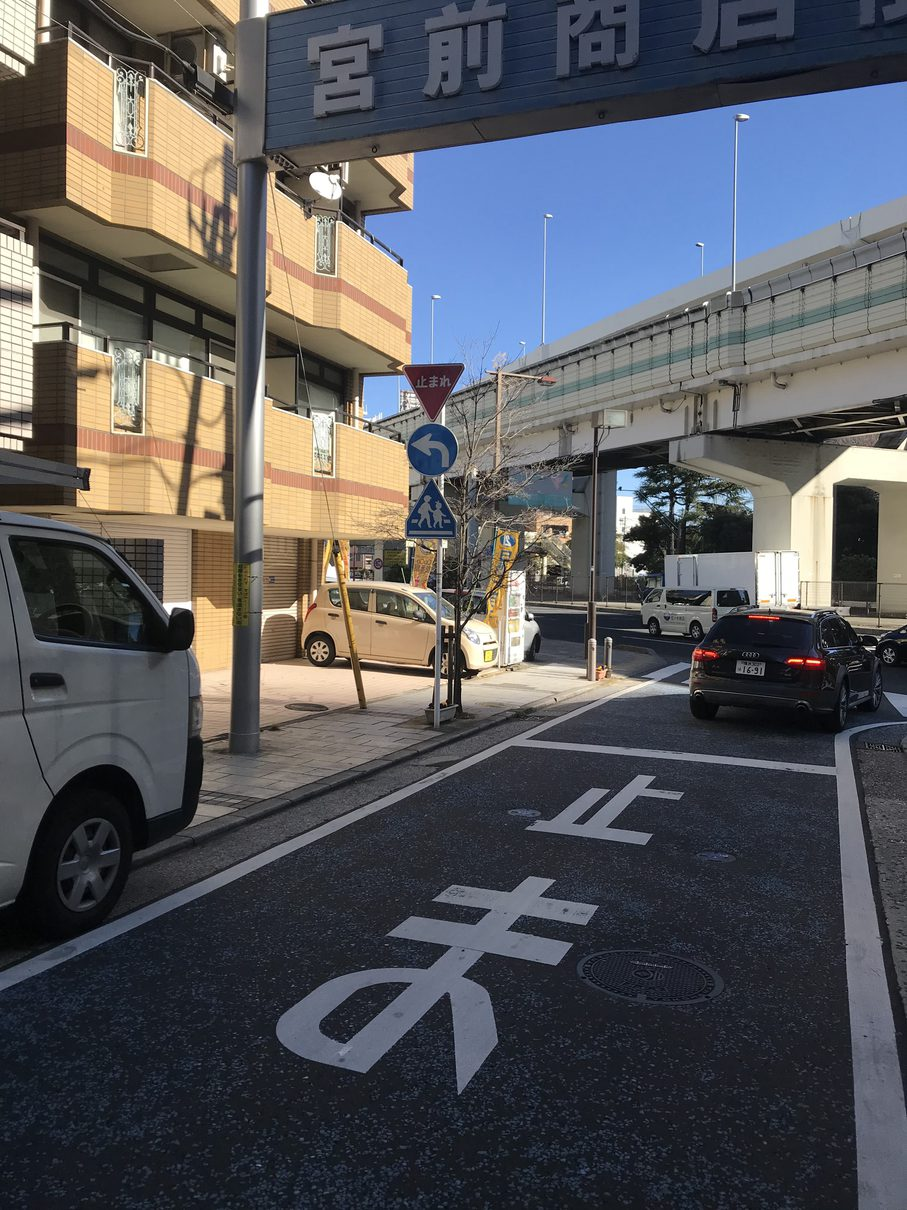stop_sign: (400, 362, 464, 422)
